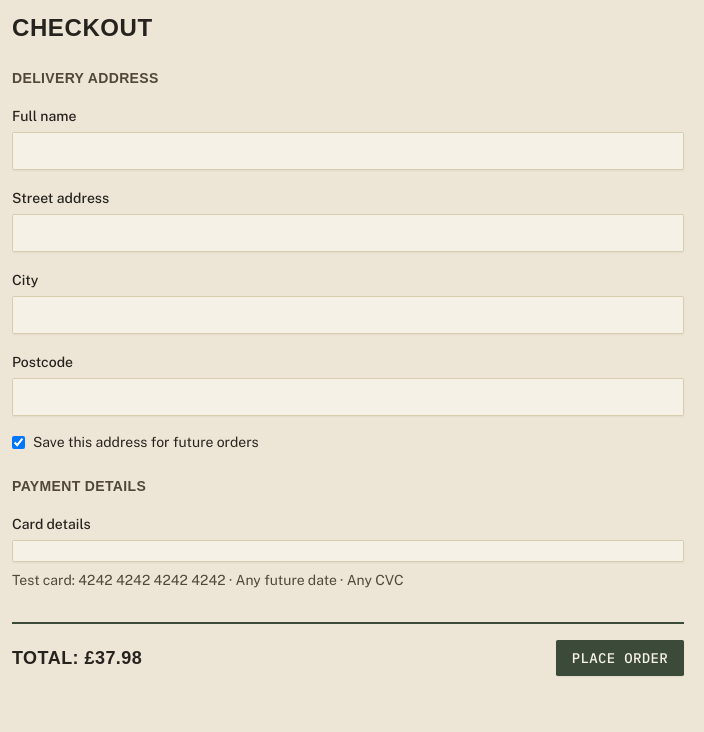
Test: CheckoutFormPage › shows validation errors when submitting an empty form
The image size is (704, 732).
Check: the field labelled "Full name" is shown, box [12, 132, 684, 170]
Click the button "Place Order" at (620, 658), box [556, 640, 684, 676]
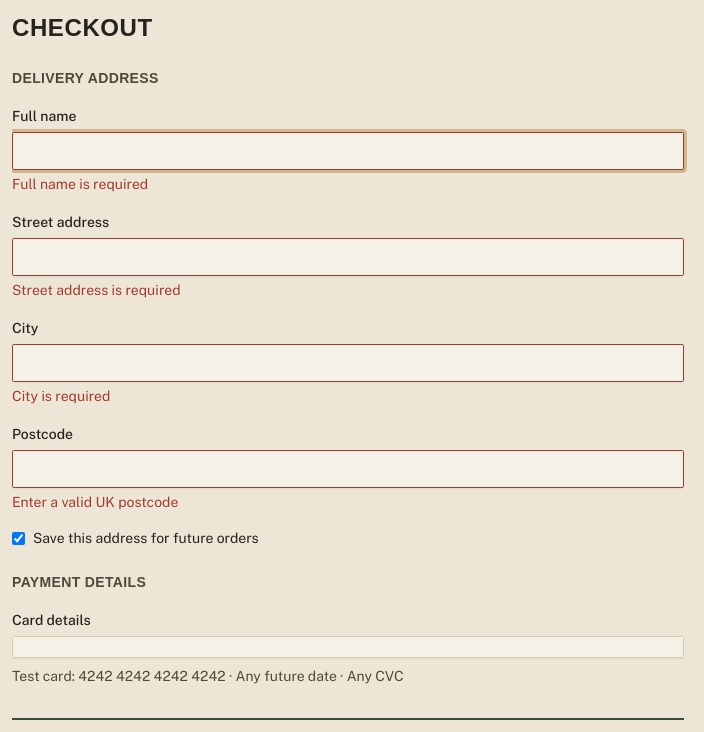
Check: the text "Full name is required" is shown, box [12, 176, 148, 192]
Check: the text "Street address is required" is shown, box [12, 282, 180, 298]
Check: the text "City is required" is shown, box [12, 388, 110, 404]
